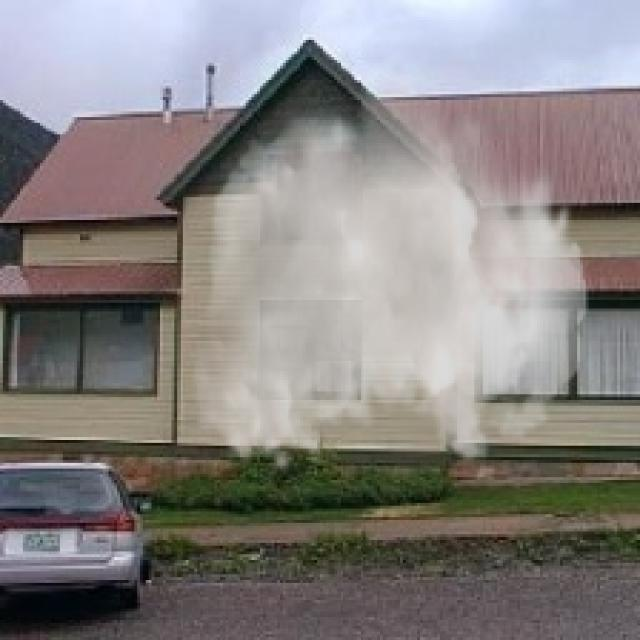smoke: (192, 57, 588, 474)
